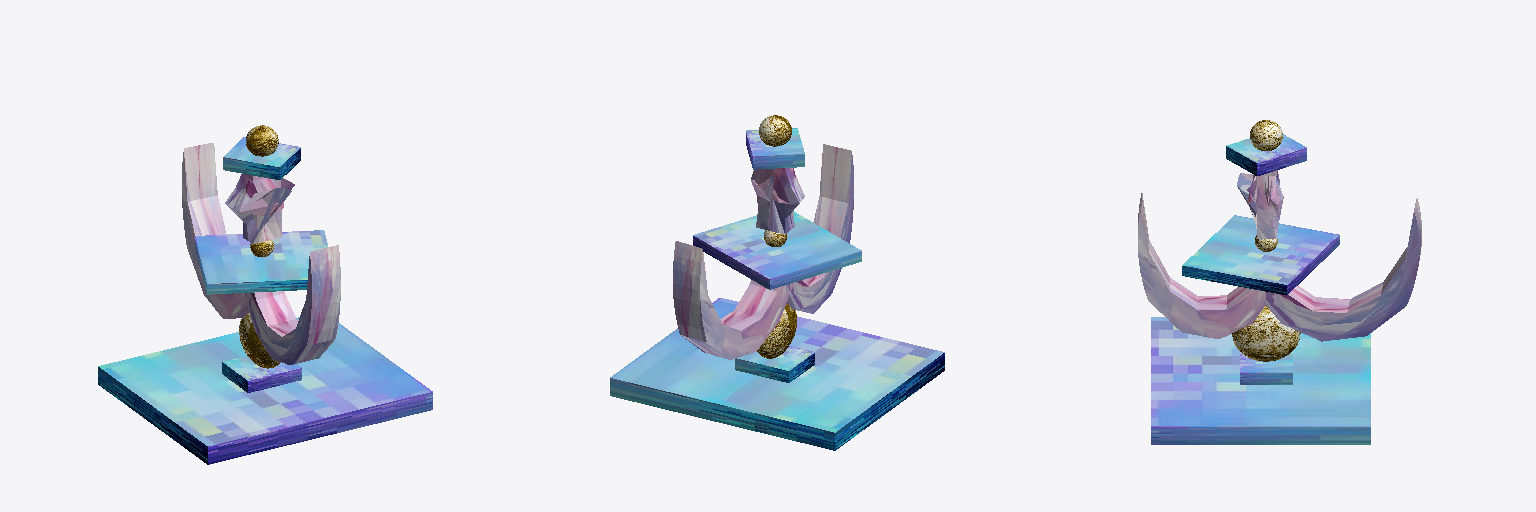
3 renders of one model, left to right at view 1: azimuth 30°, elevation 25°; view 2: azimuth 150°, elevation 25°; view 3: azimuth 270°, elevation 25°, orthographic.
Visible parts, largest first — view 1: Cube.003, Cube, Cube.005, Cube.006, Cube.001, Cube.004, Cube.002, Sphere, Sphere.002; view 2: Cube.003, Cube.006, Cube.005, Cube, Cube.001, Cube.002, Cube.004, Sphere, Sphere.002; view 3: Cube.003, Cube.005, Cube.006, Cube, Sphere, Cube.001, Cube.004, Cube.002, Sphere.002.
Part boxes in pixels (bbox=[...]): Cube.003: bbox=[98, 317, 432, 464]; Cube: bbox=[244, 245, 340, 364]; Cube.005: bbox=[195, 230, 327, 294]; Cube.006: bbox=[182, 143, 250, 318]; Cube.001: bbox=[225, 174, 294, 243]; Cube.004: bbox=[223, 137, 300, 179]; Cube.002: bbox=[222, 356, 301, 392]; Sphere: bbox=[239, 313, 280, 368]; Sphere.002: bbox=[246, 125, 278, 156]; Cube.003: bbox=[610, 298, 944, 450]; Cube.006: bbox=[673, 241, 793, 359]; Cube.005: bbox=[693, 211, 861, 289]; Cube: bbox=[786, 144, 853, 313]; Cube.001: bbox=[751, 168, 804, 234]; Cube.002: bbox=[735, 346, 814, 382]; Cube.004: bbox=[746, 128, 804, 169]; Sphere: bbox=[757, 304, 796, 358]; Sphere.002: bbox=[759, 115, 791, 146]; Cube.003: bbox=[1151, 317, 1370, 444]; Cube.005: bbox=[1182, 215, 1339, 294]; Cube.006: bbox=[1266, 198, 1421, 341]; Cube: bbox=[1138, 193, 1265, 338]; Sphere: bbox=[1232, 305, 1300, 361]; Cube.001: bbox=[1237, 170, 1283, 238]; Cube.004: bbox=[1226, 134, 1306, 175]; Cube.002: bbox=[1240, 351, 1292, 384]; Sphere.002: bbox=[1250, 120, 1282, 150].
Bounding box in the file's own units: 10.59 × 12.06 × 11.58.
10 materials, 3 textured.